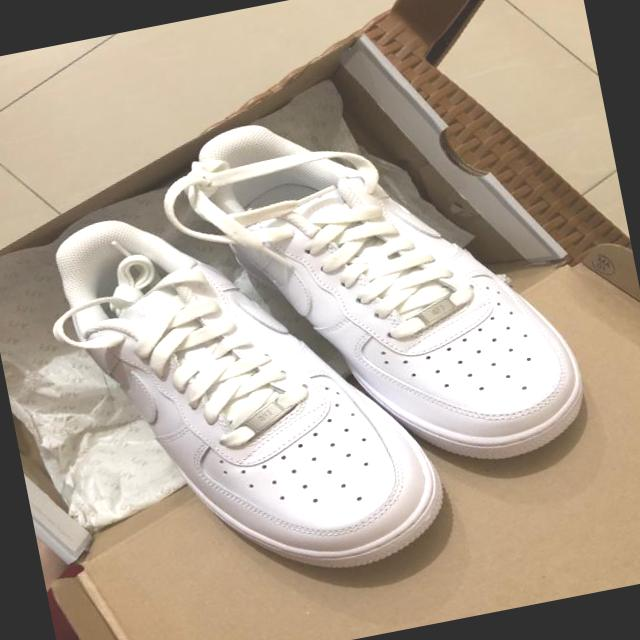nike_original_airforce: (41, 162, 476, 612), (175, 66, 602, 512)
